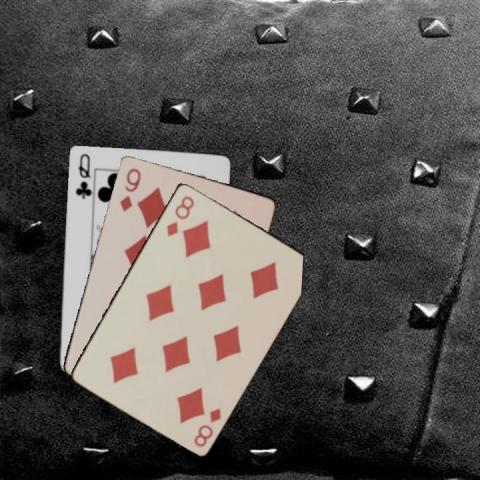8d: (163, 192, 196, 237), (191, 405, 222, 448)
9d: (117, 164, 142, 212)
Qc: (72, 150, 92, 199)
